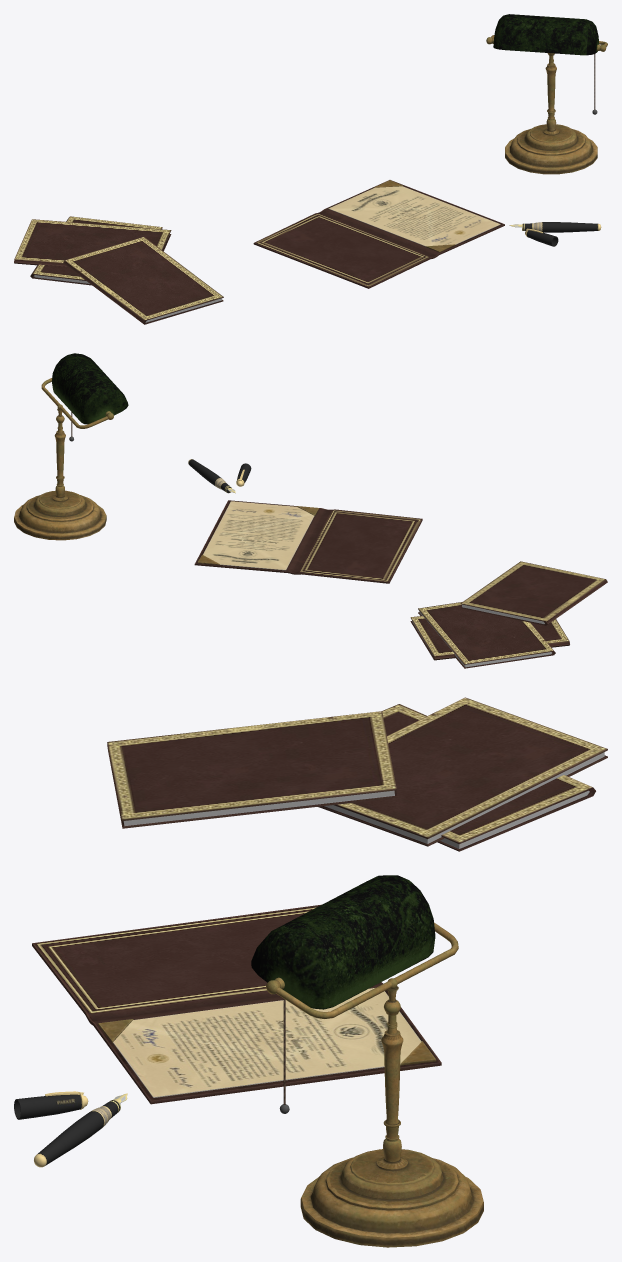
File: propsdesk.fbx
The picture shows the model from 3 angles, top to bottom: view 1: azimuth 30°, elevation 25°; view 2: azimuth 150°, elevation 25°; view 3: azimuth 270°, elevation 25°; orthographic projection. The views are drawn at different scales.
Visible parts, largest first — view 1: defaultMaterial; view 2: defaultMaterial; view 3: defaultMaterial.
Part boxes in pixels (x1,y1,x2,y2): defaultMaterial: (14,14,607,324); defaultMaterial: (14,353,607,668); defaultMaterial: (14,697,607,1247).
Size of the model in its own units: 167 by 42.7 by 78.36.
1 material, 1 textured.
